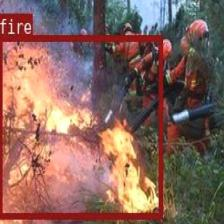fire: (0, 34, 162, 218)
